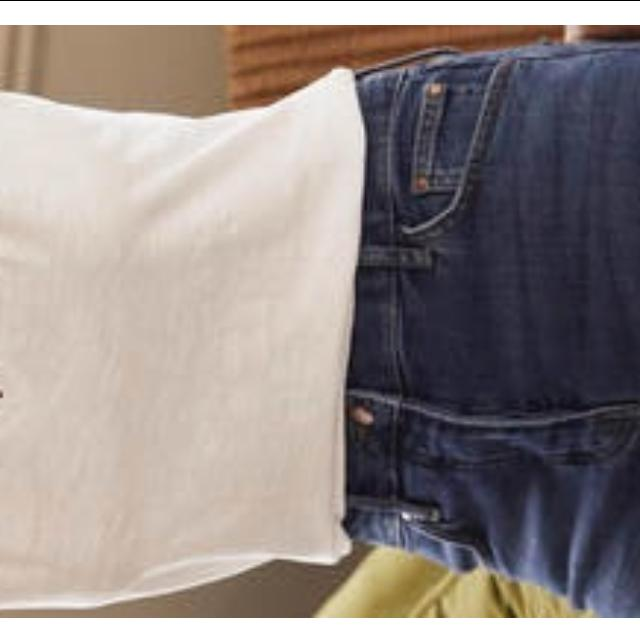cotton: (0, 76, 366, 616)
